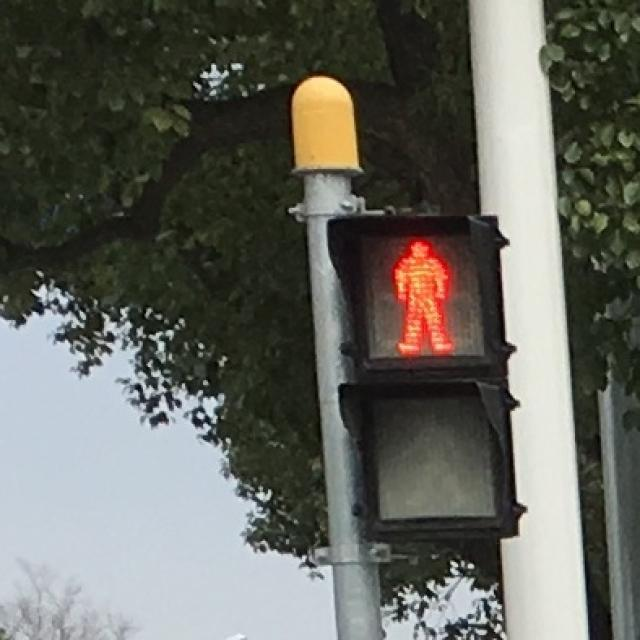red_light: (358, 227, 482, 364)
